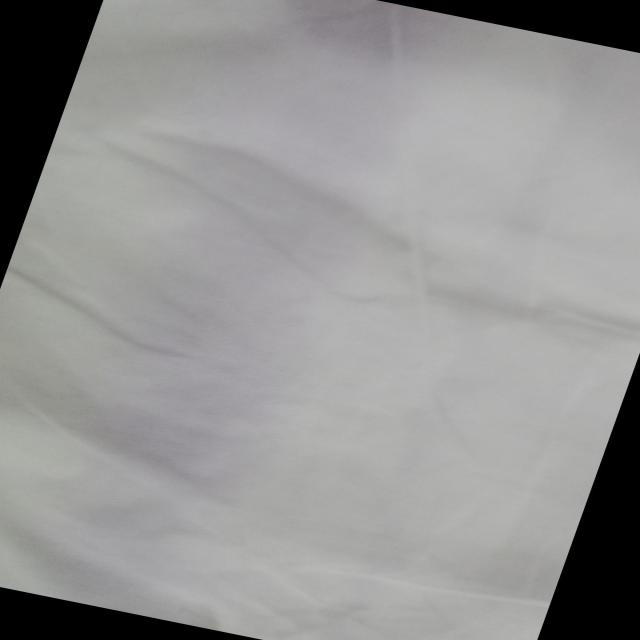stain: (9, 0, 456, 634)
